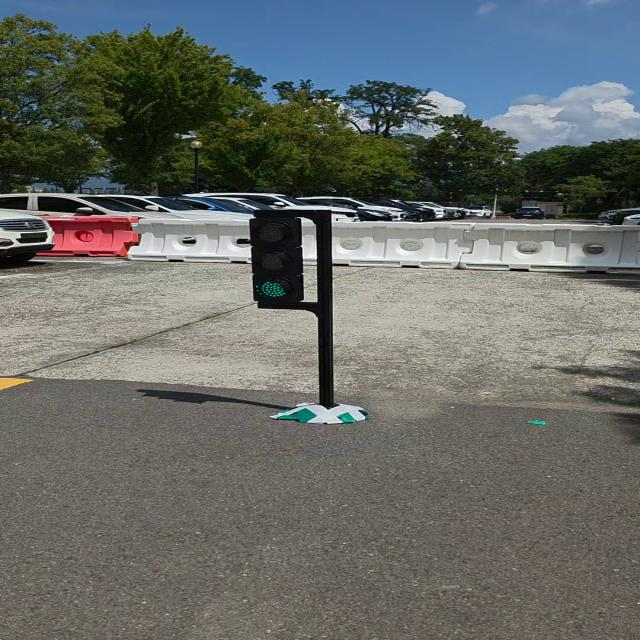green: (250, 214, 302, 305)
